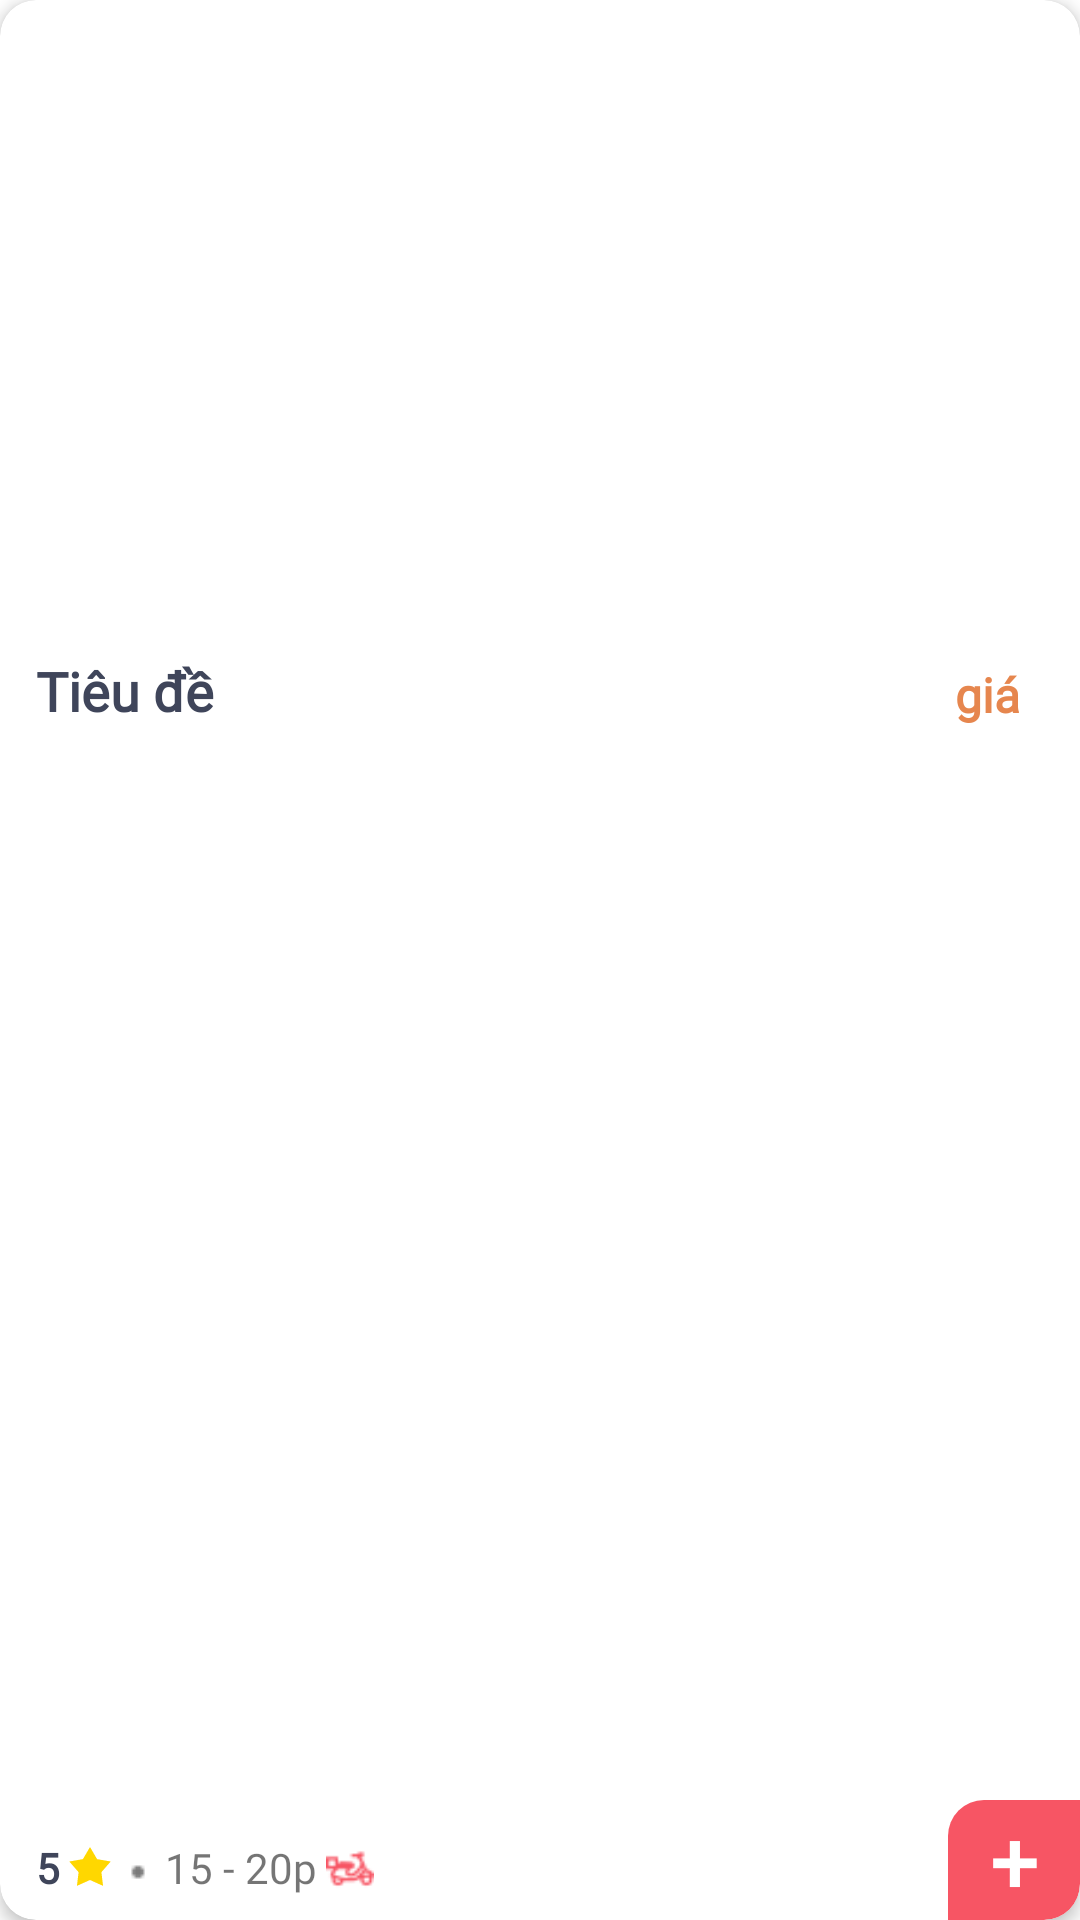

Where icons sit on this 1080×1920 app screen, as (x1,y1,x2,y2):
delivery: (326,1851,374,1886)
